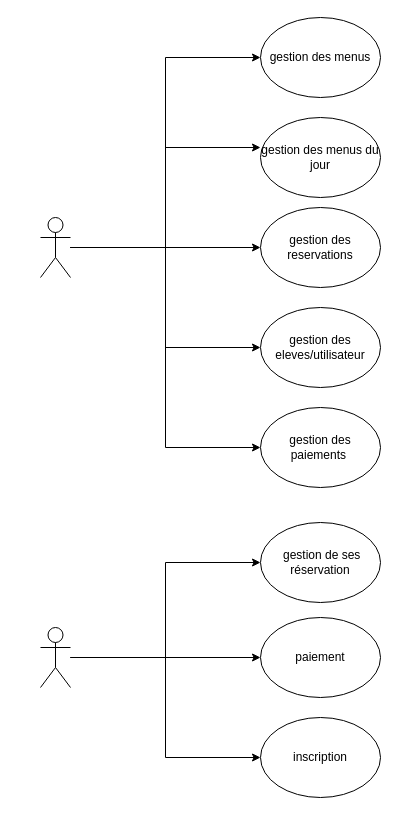
Some shapes in this 398 by 815 pixel diagram are drawn without their labels. The shapes that lost their labels are listed below. From the top down, each one's box as (x1, y1, x2, y2) in pixels, then its label:
(40, 216, 70, 278): Administrateur
(40, 626, 70, 688): Utilisateur
